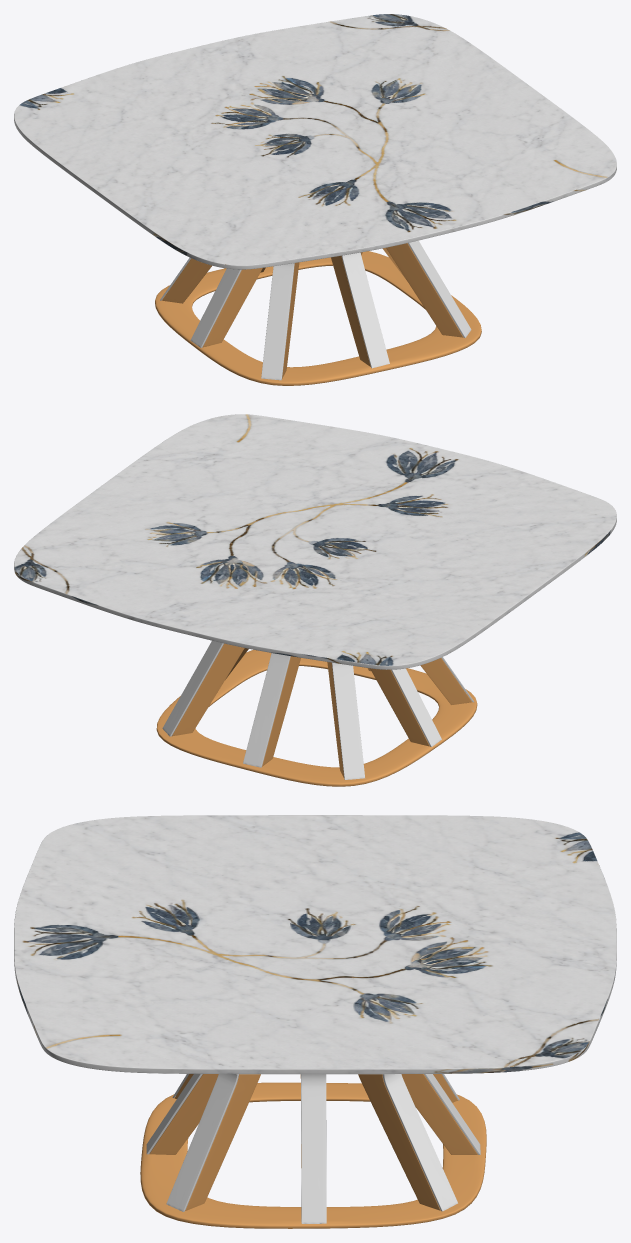
Rendered from SLN_Paradiso_Bloom_2.glb.
3 views of the same model, one above another, from view 1: azimuth 30°, elevation 25°; view 2: azimuth 150°, elevation 25°; view 3: azimuth 270°, elevation 25° (orthographic). The views are drawn at different scales.
Visible parts, largest first — view 1: Paradiso Bloom2; view 2: Paradiso Bloom2; view 3: Paradiso Bloom2.
Boxes of the visible parts, x1,y1,x2,y2 form: Paradiso Bloom2: [14, 14, 616, 385]; Paradiso Bloom2: [14, 414, 616, 786]; Paradiso Bloom2: [14, 815, 616, 1228].
Bounding box in the file's own units: 1.04 × 0.4105 × 1.04.
3 materials, 1 textured.
